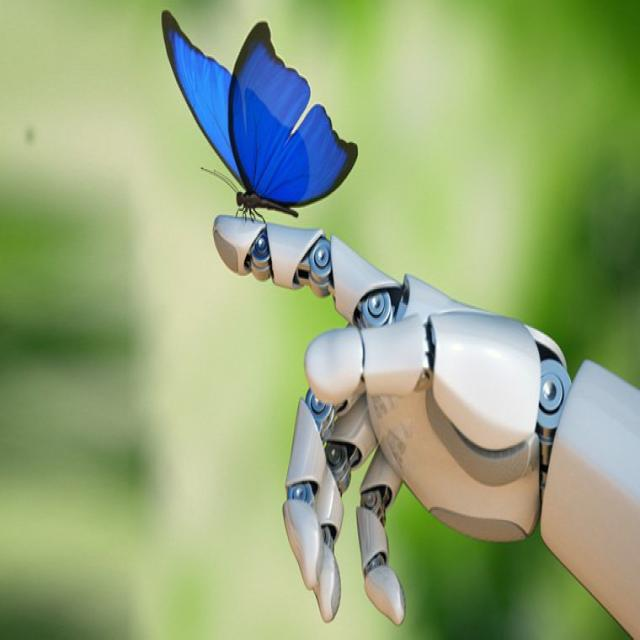butterfly: (170, 27, 369, 198)
